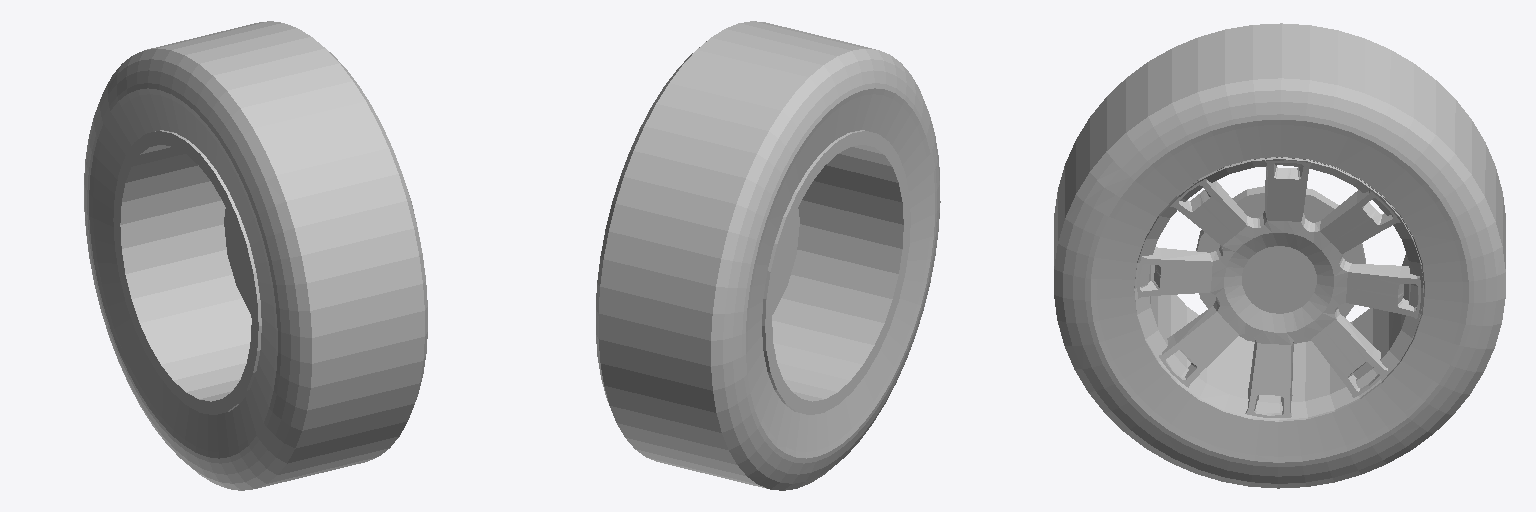
File: wheel.obj
3 views of the same model, side by side, from view 1: azimuth 30°, elevation 25°; view 2: azimuth 150°, elevation 25°; view 3: azimuth 270°, elevation 25° (orthographic).
Parts seen in each view (by area): view 1: lincoln_navigator; view 2: lincoln_navigator; view 3: lincoln_navigator.
Part boxes in pixels (bbox=[...]): lincoln_navigator: bbox=[84, 21, 427, 490]; lincoln_navigator: bbox=[596, 21, 940, 490]; lincoln_navigator: bbox=[1054, 23, 1505, 488].
Bounding box in the file's own units: 0.9025 × 2.43 × 2.43.